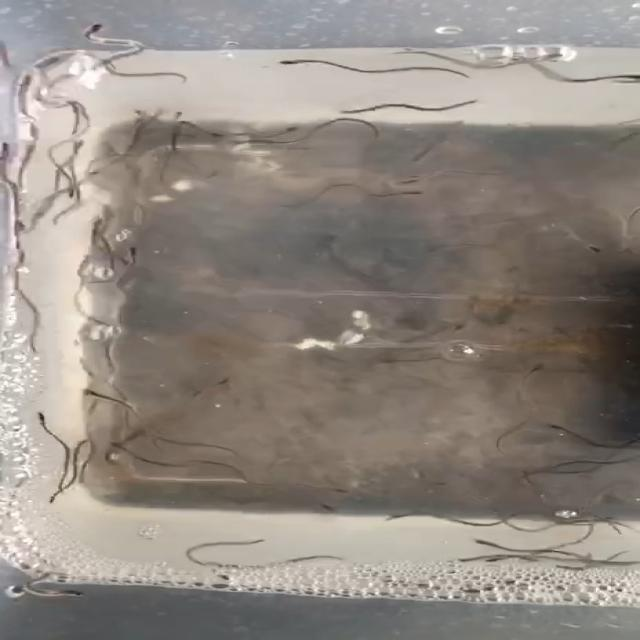inactive_glass_eel: (36, 52, 82, 71), (530, 46, 570, 64), (78, 22, 109, 43), (333, 104, 371, 120), (524, 360, 553, 380), (20, 76, 44, 100), (74, 385, 109, 401), (468, 534, 511, 547), (396, 172, 435, 186), (111, 250, 141, 268), (321, 482, 358, 496), (56, 179, 78, 201), (49, 586, 85, 599), (392, 187, 430, 199), (316, 499, 345, 514), (451, 553, 490, 564), (222, 137, 268, 146), (277, 54, 306, 68), (167, 108, 187, 127), (603, 73, 640, 83), (273, 126, 309, 136), (0, 140, 17, 160), (110, 441, 136, 454), (33, 408, 54, 424), (544, 418, 569, 431), (584, 240, 607, 254), (487, 555, 519, 565), (40, 492, 59, 508), (64, 100, 83, 115), (127, 243, 141, 261)
